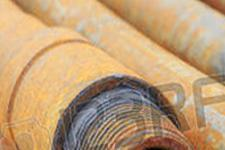rust: (29, 25, 137, 79), (3, 90, 48, 150)
